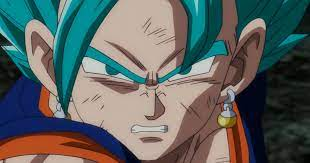Vegito: (26, 1, 265, 160)
